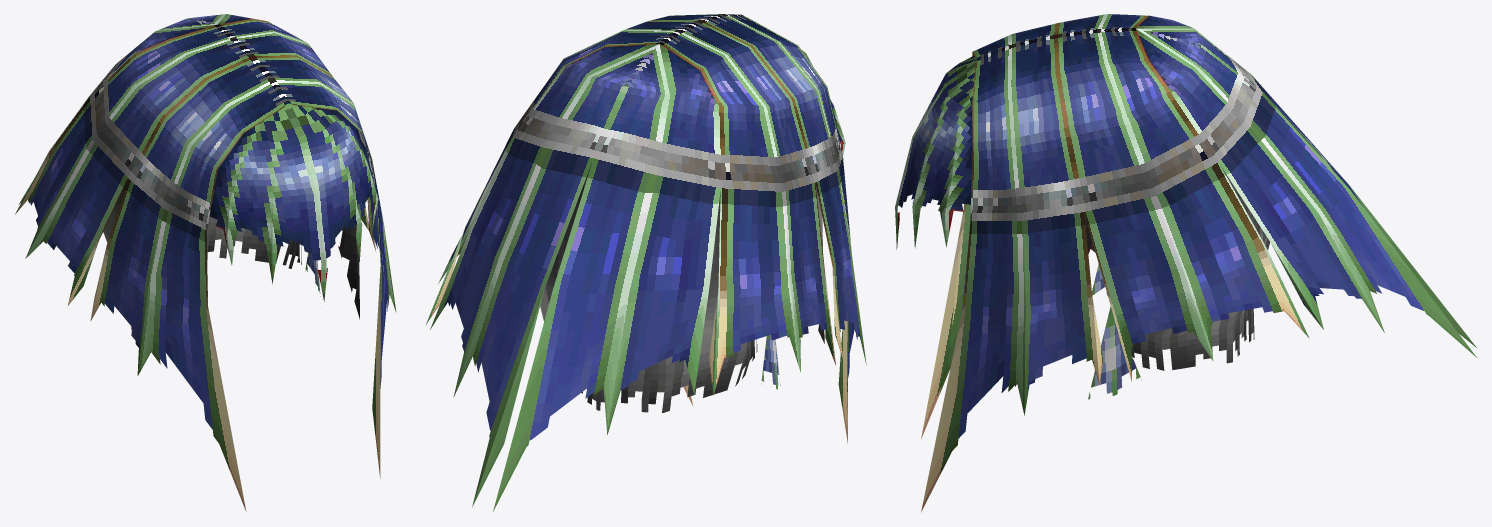
File: f_helmet093.obj
3 renders of one model, left to right at view 1: azimuth 30°, elevation 25°; view 2: azimuth 150°, elevation 25°; view 3: azimuth 270°, elevation 25°, orthographic. The views are drawn at different scales.
Visible parts, largest first — view 1: mesh01, mesh00; view 2: mesh01, mesh00; view 3: mesh01, mesh00.
Part boxes in pixels (x1,y1,x2,y2): mesh01: [15, 14, 396, 511]; mesh00: [103, 181, 359, 319]; mesh01: [425, 14, 866, 511]; mesh00: [540, 163, 824, 412]; mesh01: [895, 14, 1476, 512]; mesh00: [1015, 167, 1269, 386].
Bounding box in the file's own units: 26.39 × 32.18 × 37.96.
Materials: 2 (2 with a texture image).
